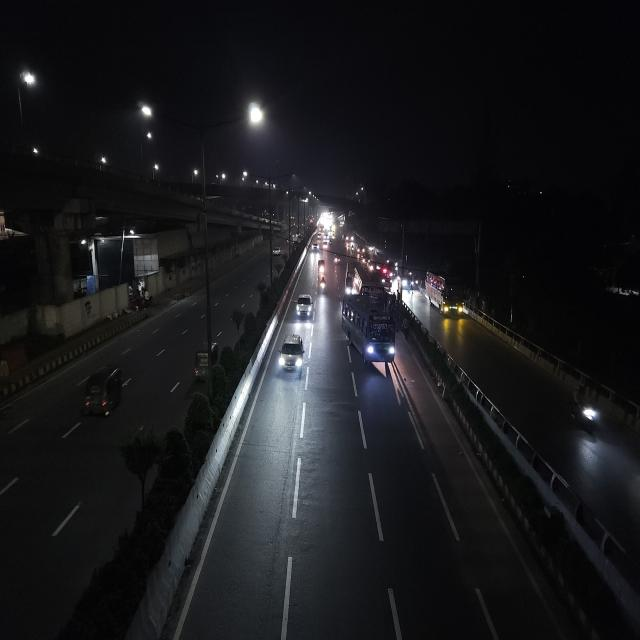bus: (339, 293, 398, 370), (423, 269, 467, 320)
car: (276, 332, 307, 380), (294, 292, 314, 321), (310, 241, 320, 257), (270, 245, 282, 257)
cng: (77, 361, 130, 424), (192, 341, 220, 383), (317, 259, 326, 275)
motorcycle: (318, 274, 328, 292)
pedestrian: (408, 277, 414, 295)
